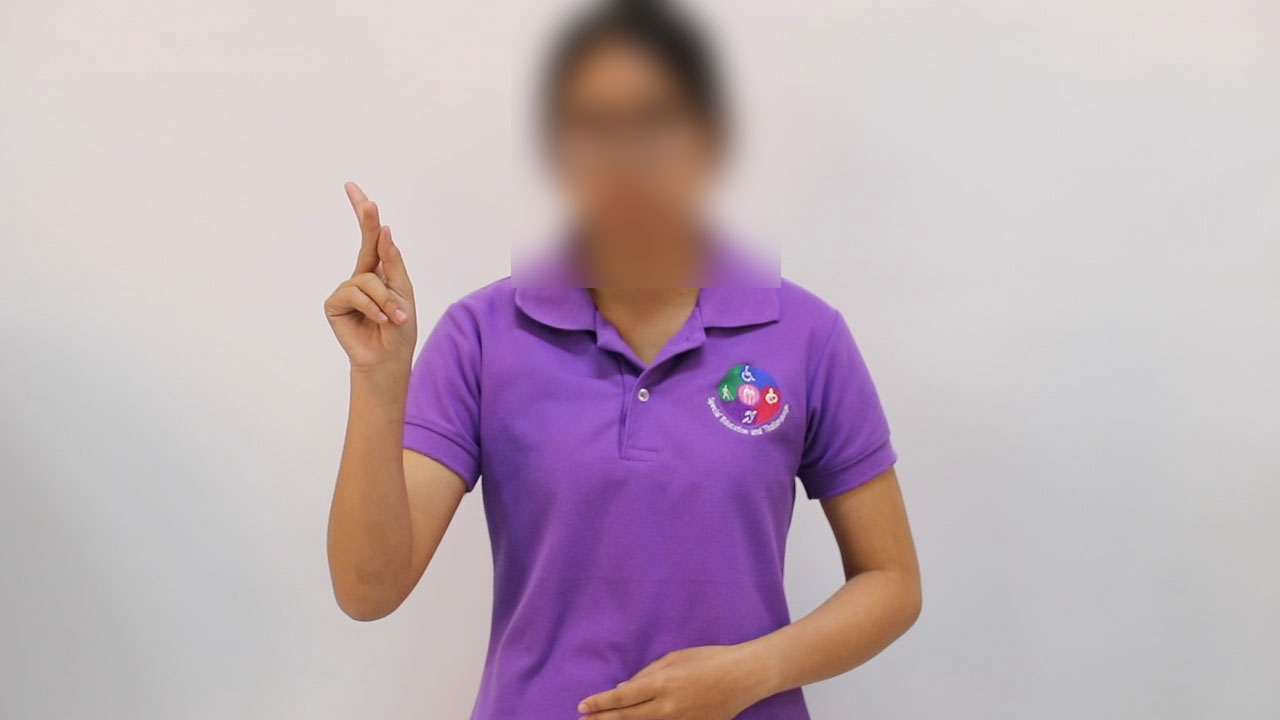ko: (310, 173, 431, 373)
